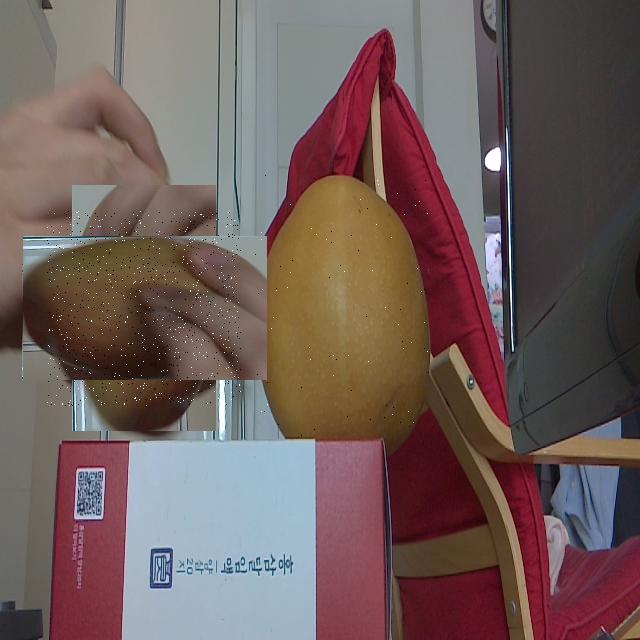apple: (47, 211, 241, 406)
pear: (255, 175, 431, 436)
